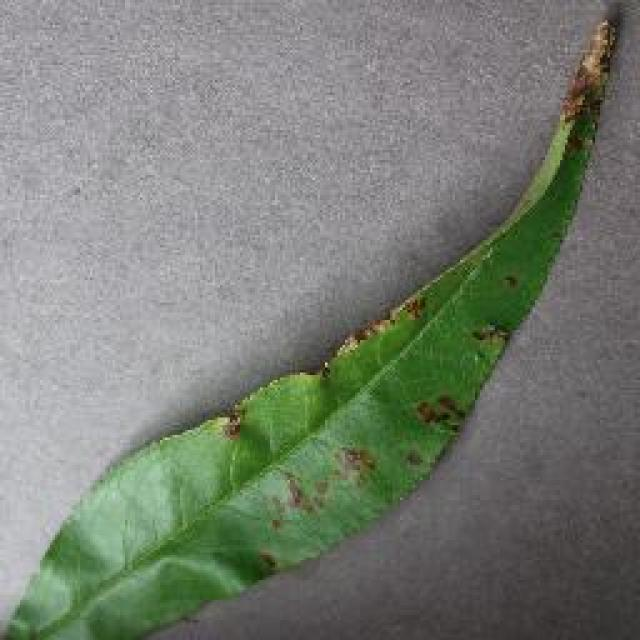Peach_Bacterial_Spot: (235, 237, 487, 515)
